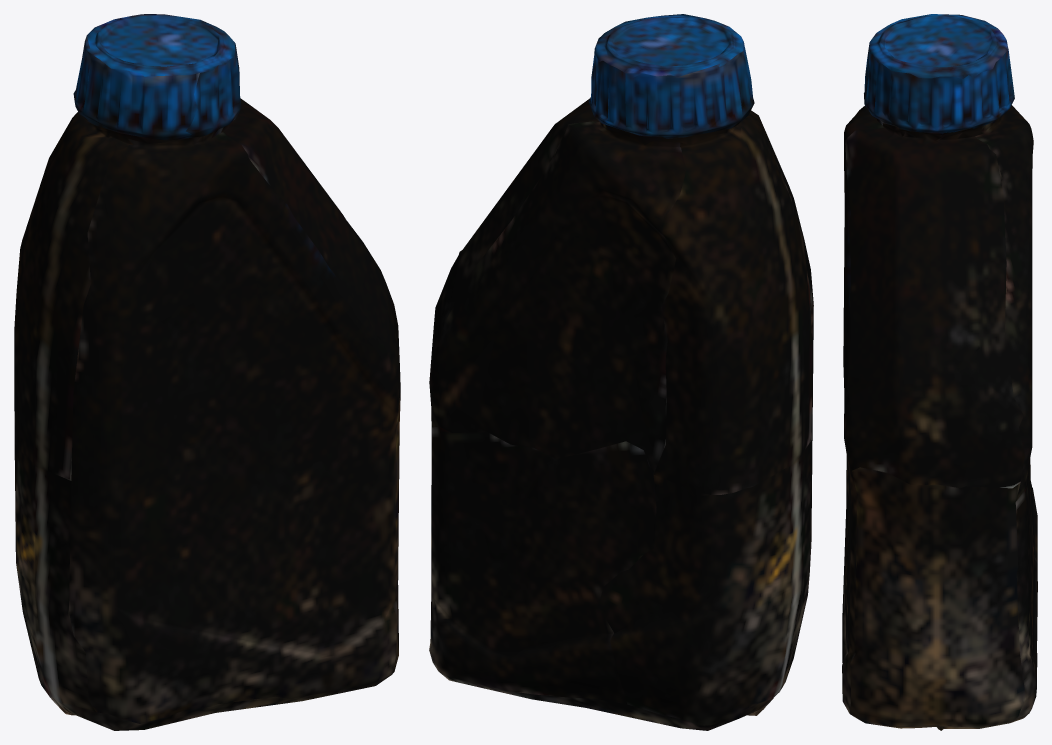
File: SM_Ind_Con_Oil_Plastic_Pack_02_A.gltf
The picture shows the model from 3 angles, left to right: view 1: azimuth 30°, elevation 25°; view 2: azimuth 150°, elevation 25°; view 3: azimuth 270°, elevation 25°; orthographic projection. The views are drawn at different scales.
Visible parts, largest first — view 1: SM_Ind_Con_Oil_Plastic_Pack_02_A; view 2: SM_Ind_Con_Oil_Plastic_Pack_02_A; view 3: SM_Ind_Con_Oil_Plastic_Pack_02_A.
Boxes of the visible parts, left/top/right/bottom form: SM_Ind_Con_Oil_Plastic_Pack_02_A: left=14, top=14, right=400, bottom=730; SM_Ind_Con_Oil_Plastic_Pack_02_A: left=429, top=14, right=813, bottom=730; SM_Ind_Con_Oil_Plastic_Pack_02_A: left=842, top=14, right=1037, bottom=730.
Bounding box in the file's own units: 0.1102 × 0.2008 × 0.0589.
Materials: 1 (1 with a texture image).
